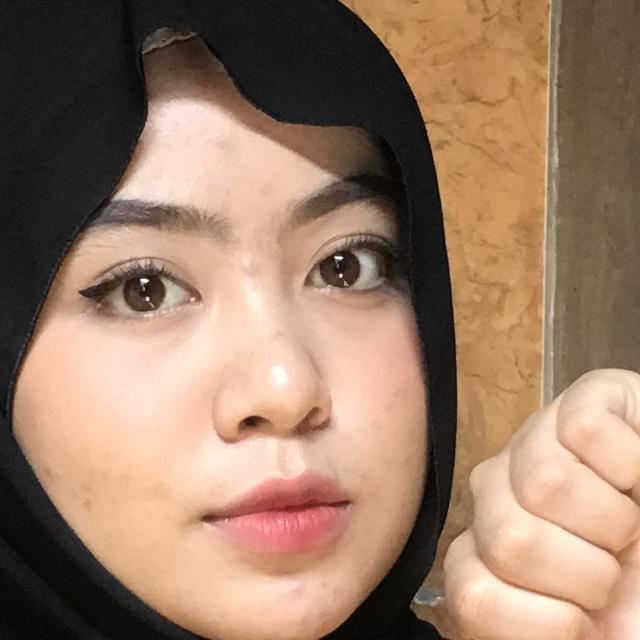sedih: (230, 286, 640, 640)
